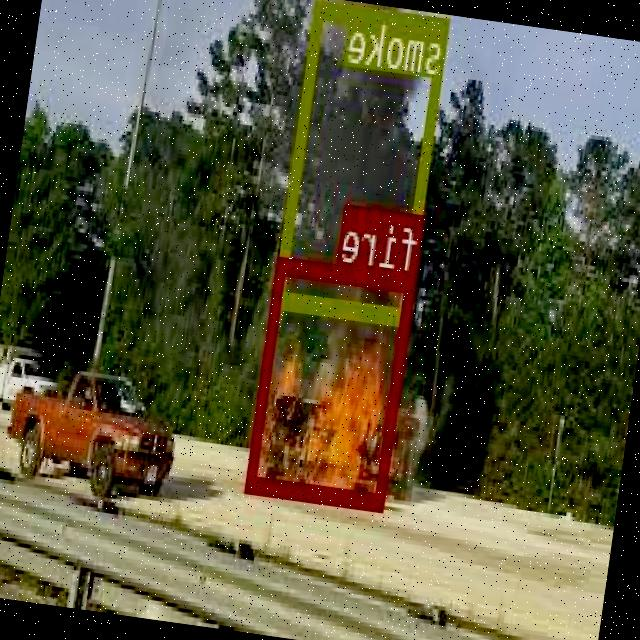fire: (247, 255, 418, 508)
smoke: (275, 0, 452, 322)
